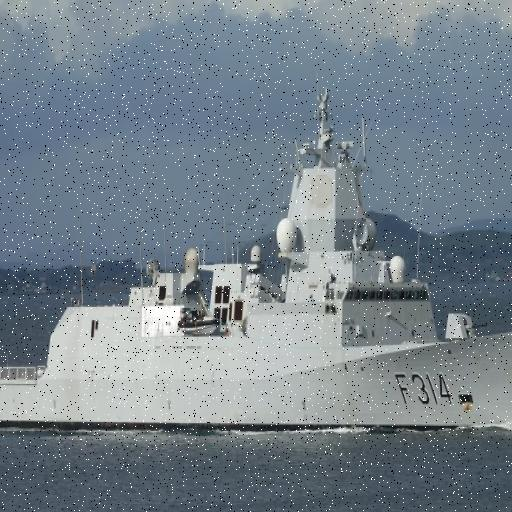Fragata: (1, 79, 512, 436)
